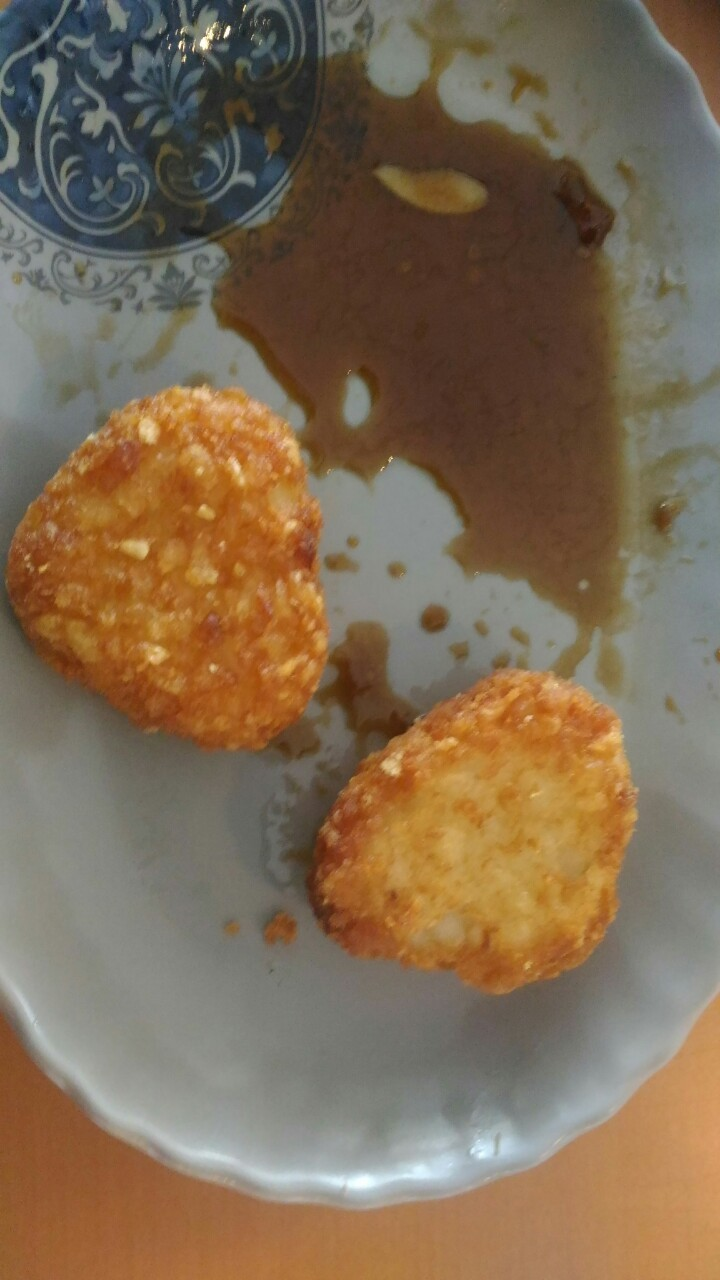triangle_hash_brown: (8, 384, 324, 749), (310, 667, 641, 995)
